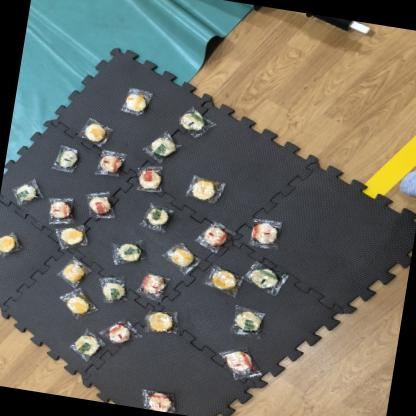green_setoshio: (170, 101, 218, 141), (243, 258, 291, 296), (226, 301, 271, 338), (142, 130, 186, 165), (108, 236, 149, 268), (96, 272, 134, 306), (9, 176, 45, 209), (140, 201, 175, 234), (69, 330, 104, 362), (51, 144, 84, 175)
red_setoshio: (220, 346, 264, 384), (100, 314, 142, 351), (134, 382, 182, 414), (194, 218, 236, 254), (89, 143, 130, 178), (132, 162, 168, 197), (245, 214, 282, 247), (137, 272, 173, 304), (83, 190, 120, 221), (44, 193, 78, 225)
yellow_setoshio: (64, 112, 116, 148), (198, 259, 247, 297), (182, 173, 230, 208), (158, 240, 202, 277), (50, 218, 91, 256), (56, 286, 100, 321), (116, 83, 156, 120), (56, 258, 94, 288), (144, 306, 180, 335), (0, 228, 28, 262)
